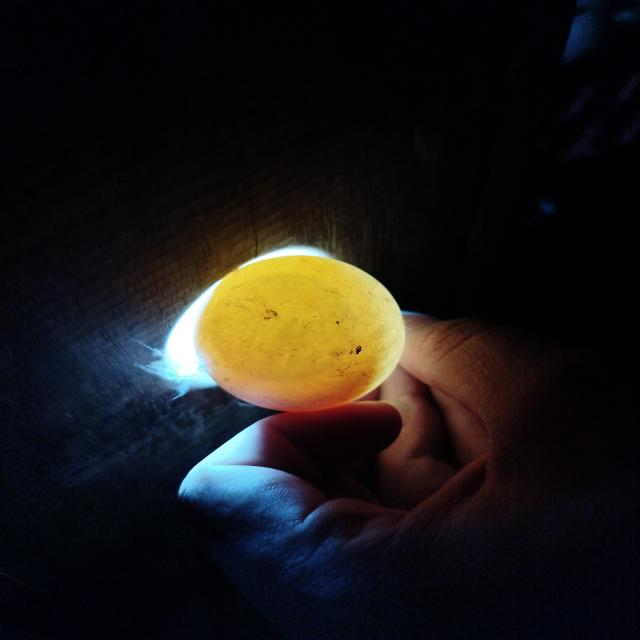Camara de Ar: (210, 275, 354, 382)
